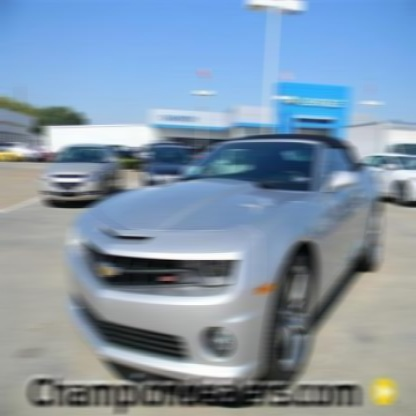Vehicle: (66, 135, 384, 388)
